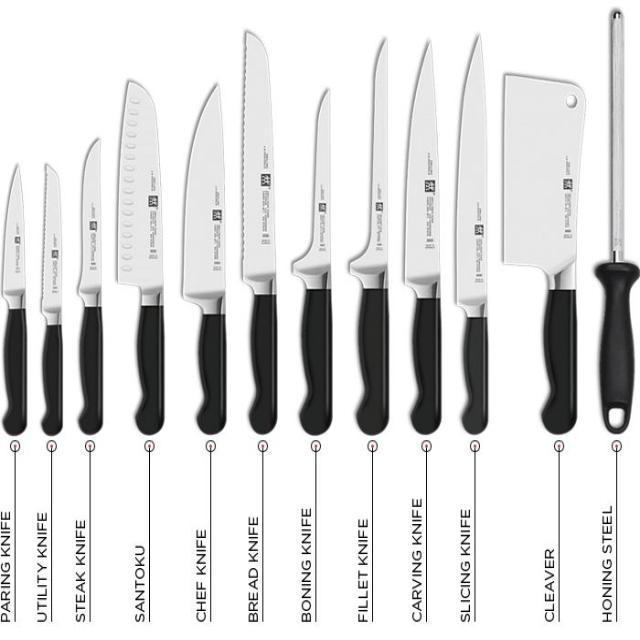Pisau: (236, 6, 289, 444)
